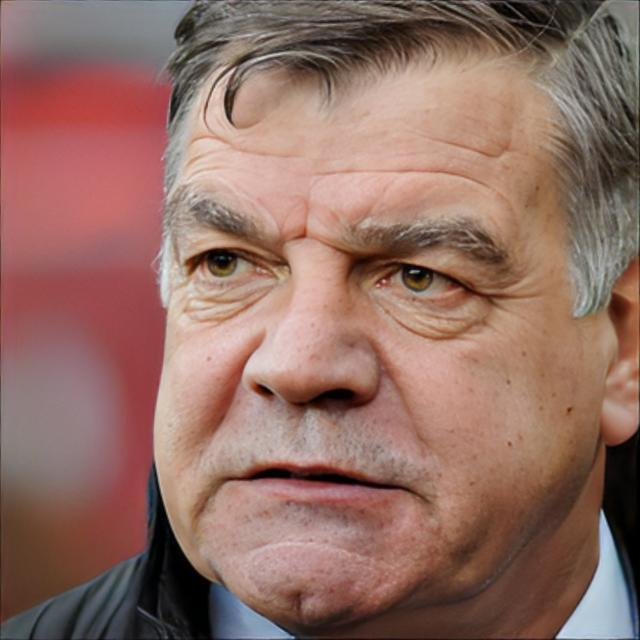anger: (156, 53, 588, 626)
